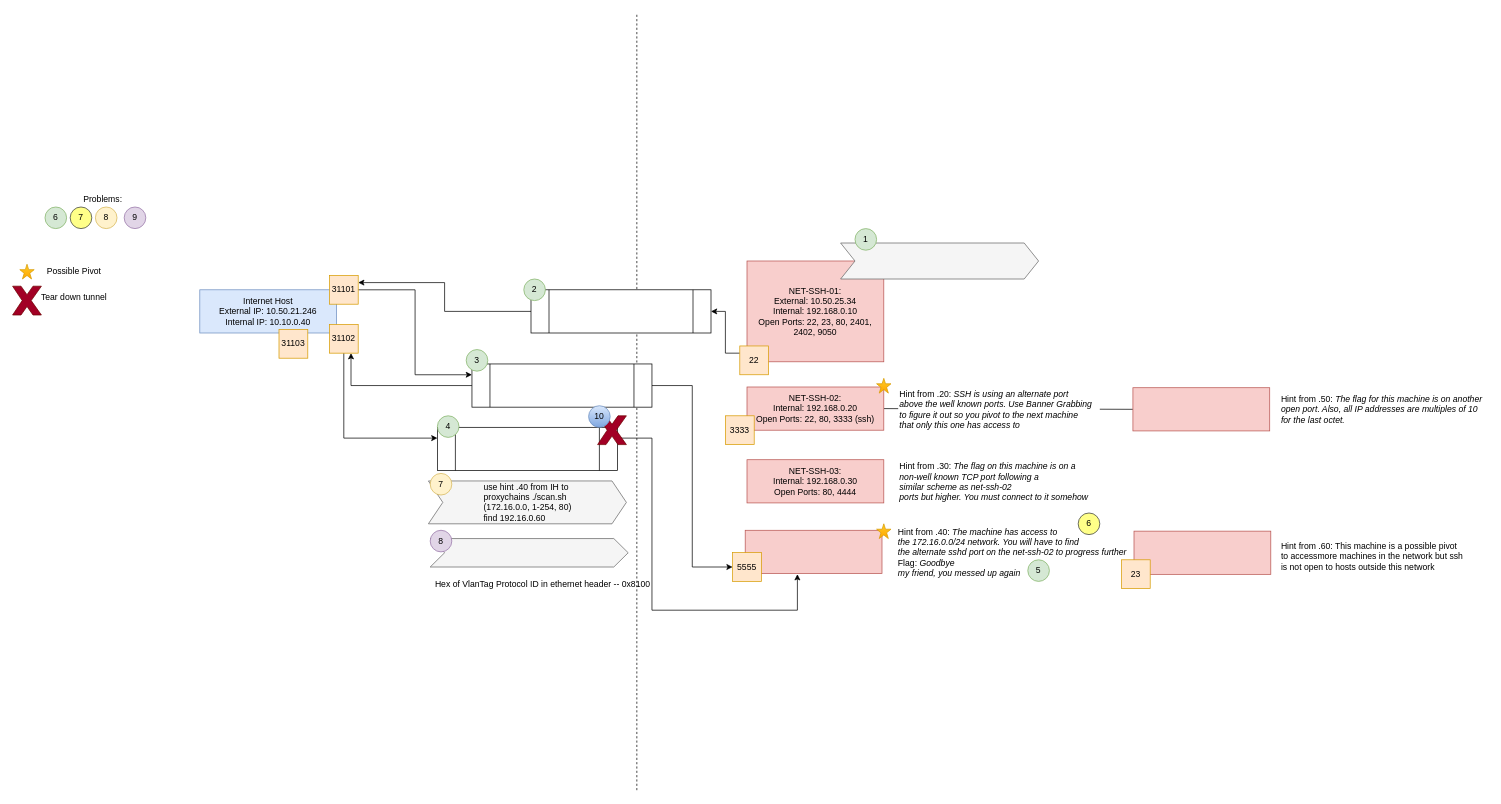
Some shapes in this 1501 by 804 pixel diagram are drawn without their labels. The box of each missing label's shape, as (x1, y1, x2, y2) in pixels:
from IH: proxychains wget -r 172.16.0.60: (429, 538, 628, 567)
from IH: ssh net3_student11@localhost -p 31101 -L 31102:192.168.0.40:5555 - NT: (471, 363, 652, 407)
from IH: ssh net3_student11@localhost -p 31102 -D 9050 -NT: (437, 427, 617, 471)
from telnet SSH-01: ssh student@10.50.21.246 -R 31101:localhost:22 -NT: (530, 289, 711, 333)
NET-SSH-02: Internal: 192.168.0.50 Open Ports: 21, 80: (1132, 387, 1270, 431)
NET-SSH-04: Internal: 192.168.0.40 Open Ports: 80: (744, 530, 882, 573)
NET-SSH-06: Internal: 172.16.0.60 Open Ports: 21, 23, 80: (1133, 530, 1271, 574)
telnet into NET-SSH-01 ifconfig (private IP) netstat -plnt (what's open): (840, 242, 1039, 279)
